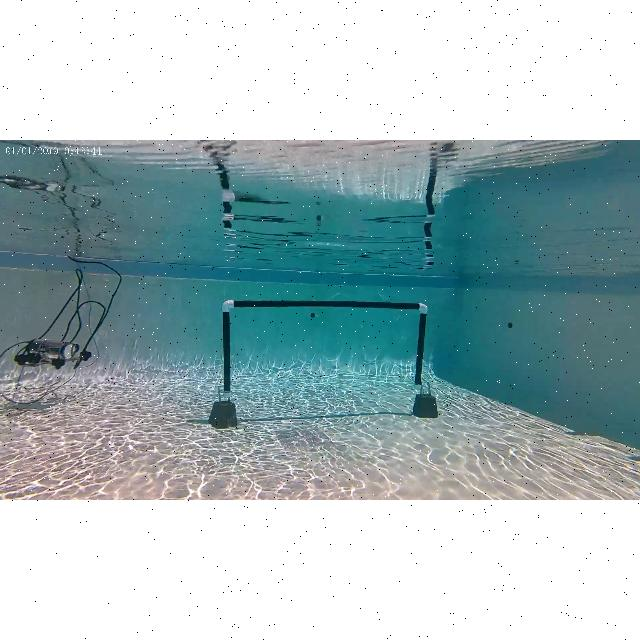prequal gate: (222, 299, 428, 399)
prequal gate leg l: (217, 296, 241, 406)
prequal gate leg r: (407, 297, 433, 401)
